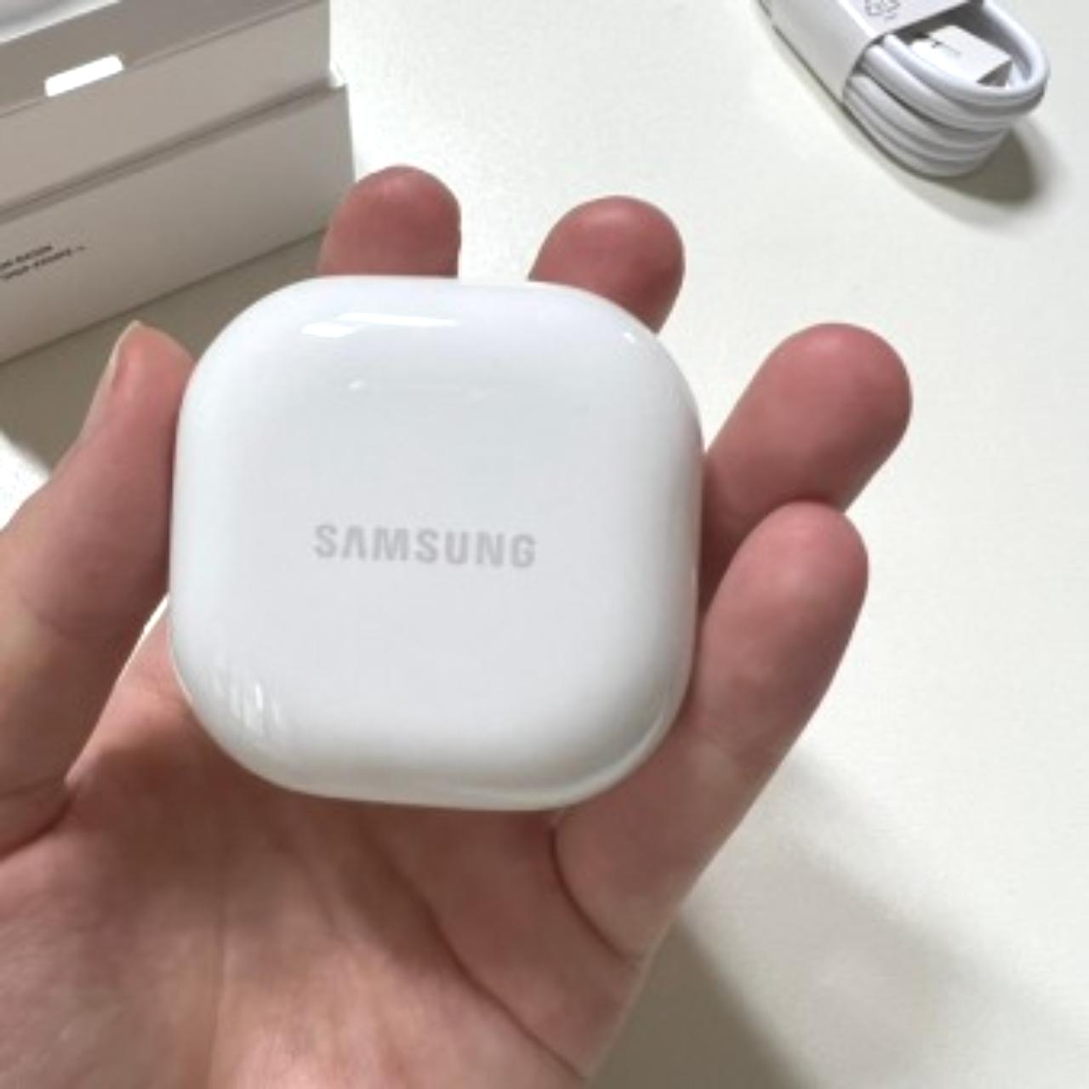Buds: (164, 266, 709, 823)
